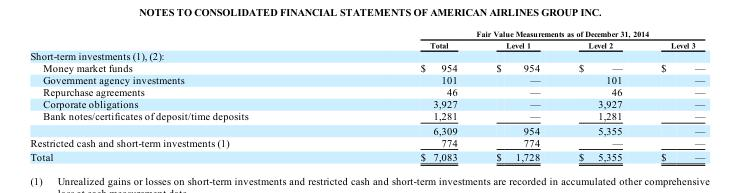table: (29, 29, 704, 162)
table column: (29, 29, 333, 162), (333, 29, 476, 162), (558, 29, 641, 162), (476, 29, 558, 162), (641, 29, 704, 162)
table column header: (29, 29, 704, 49)
table projected row header: (29, 49, 704, 61)
table row: (29, 109, 704, 123), (29, 123, 704, 136), (29, 136, 704, 149), (29, 149, 704, 162), (29, 49, 704, 61), (29, 61, 704, 73), (29, 73, 704, 85), (29, 85, 704, 97), (29, 97, 704, 109), (29, 29, 704, 39), (29, 39, 704, 49)
table spanning cell: (333, 29, 704, 39)
